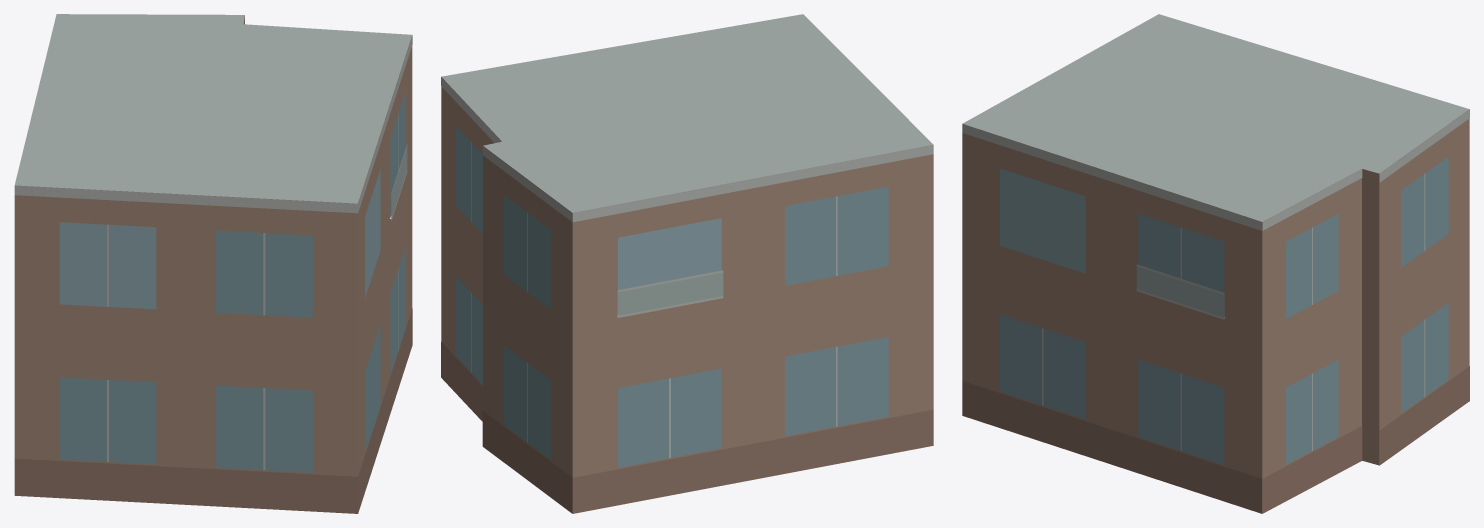
File: survey-upis-33018496.glb
The picture shows the model from 3 angles, left to right: view 1: azimuth 30°, elevation 25°; view 2: azimuth 150°, elevation 25°; view 3: azimuth 270°, elevation 25°; orthographic projection. The views are drawn at different scales.
Visible parts, largest first — view 1: survey-upis-33018496.tmp; view 2: survey-upis-33018496.tmp; view 3: survey-upis-33018496.tmp.
Boxes of the visible parts, <box> form: survey-upis-33018496.tmp: <box>14,14,412,513</box>; survey-upis-33018496.tmp: <box>441,14,933,513</box>; survey-upis-33018496.tmp: <box>962,14,1469,513</box>.
Bounding box in the file's own units: 11.92 × 7.8 × 12.3.
